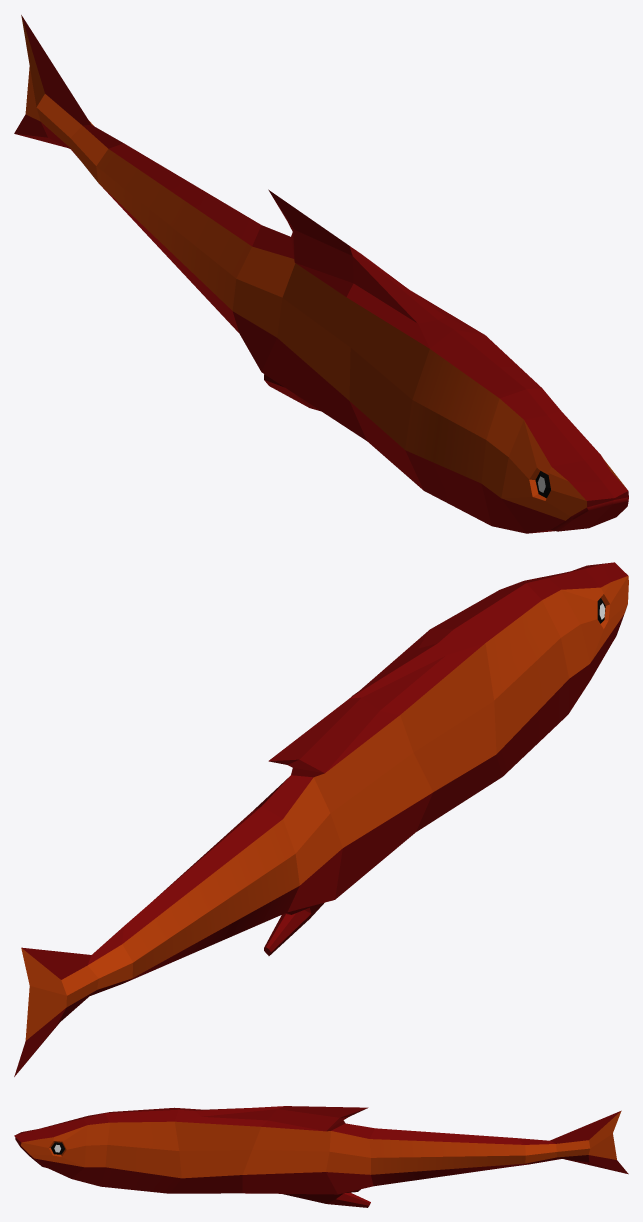
File: Fish-3e.fbx
The picture shows the model from 3 angles, top to bottom: view 1: azimuth 30°, elevation 25°; view 2: azimuth 150°, elevation 25°; view 3: azimuth 270°, elevation 25°; orthographic projection. The views are drawn at different scales.
Parts seen in each view (by area): view 1: Fish-3e; view 2: Fish-3e; view 3: Fish-3e.
Boxes of the visible parts, bbox=[...] form: Fish-3e: bbox=[14, 15, 628, 533]; Fish-3e: bbox=[14, 562, 628, 1076]; Fish-3e: bbox=[14, 1106, 628, 1207].
Bounding box in the file's own units: 0.0762 × 0.1587 × 0.868.
